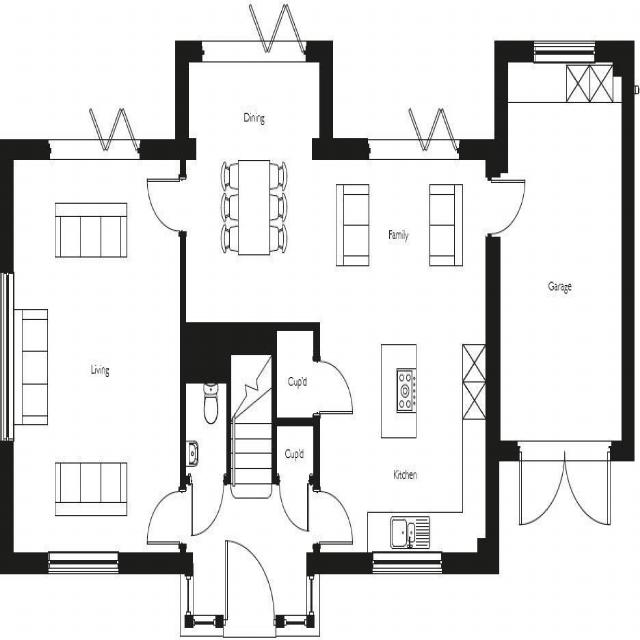DOOR: (222, 536, 278, 638), (485, 176, 527, 240), (145, 486, 187, 547), (146, 175, 187, 234), (313, 488, 354, 547)
FOLDING DOOR: (201, 0, 307, 66), (49, 99, 141, 161), (367, 98, 462, 158)
ROOM: (145, 3, 526, 576), (0, 105, 187, 576)
WINDOW: (0, 270, 16, 445), (46, 548, 120, 577), (371, 550, 443, 575)
